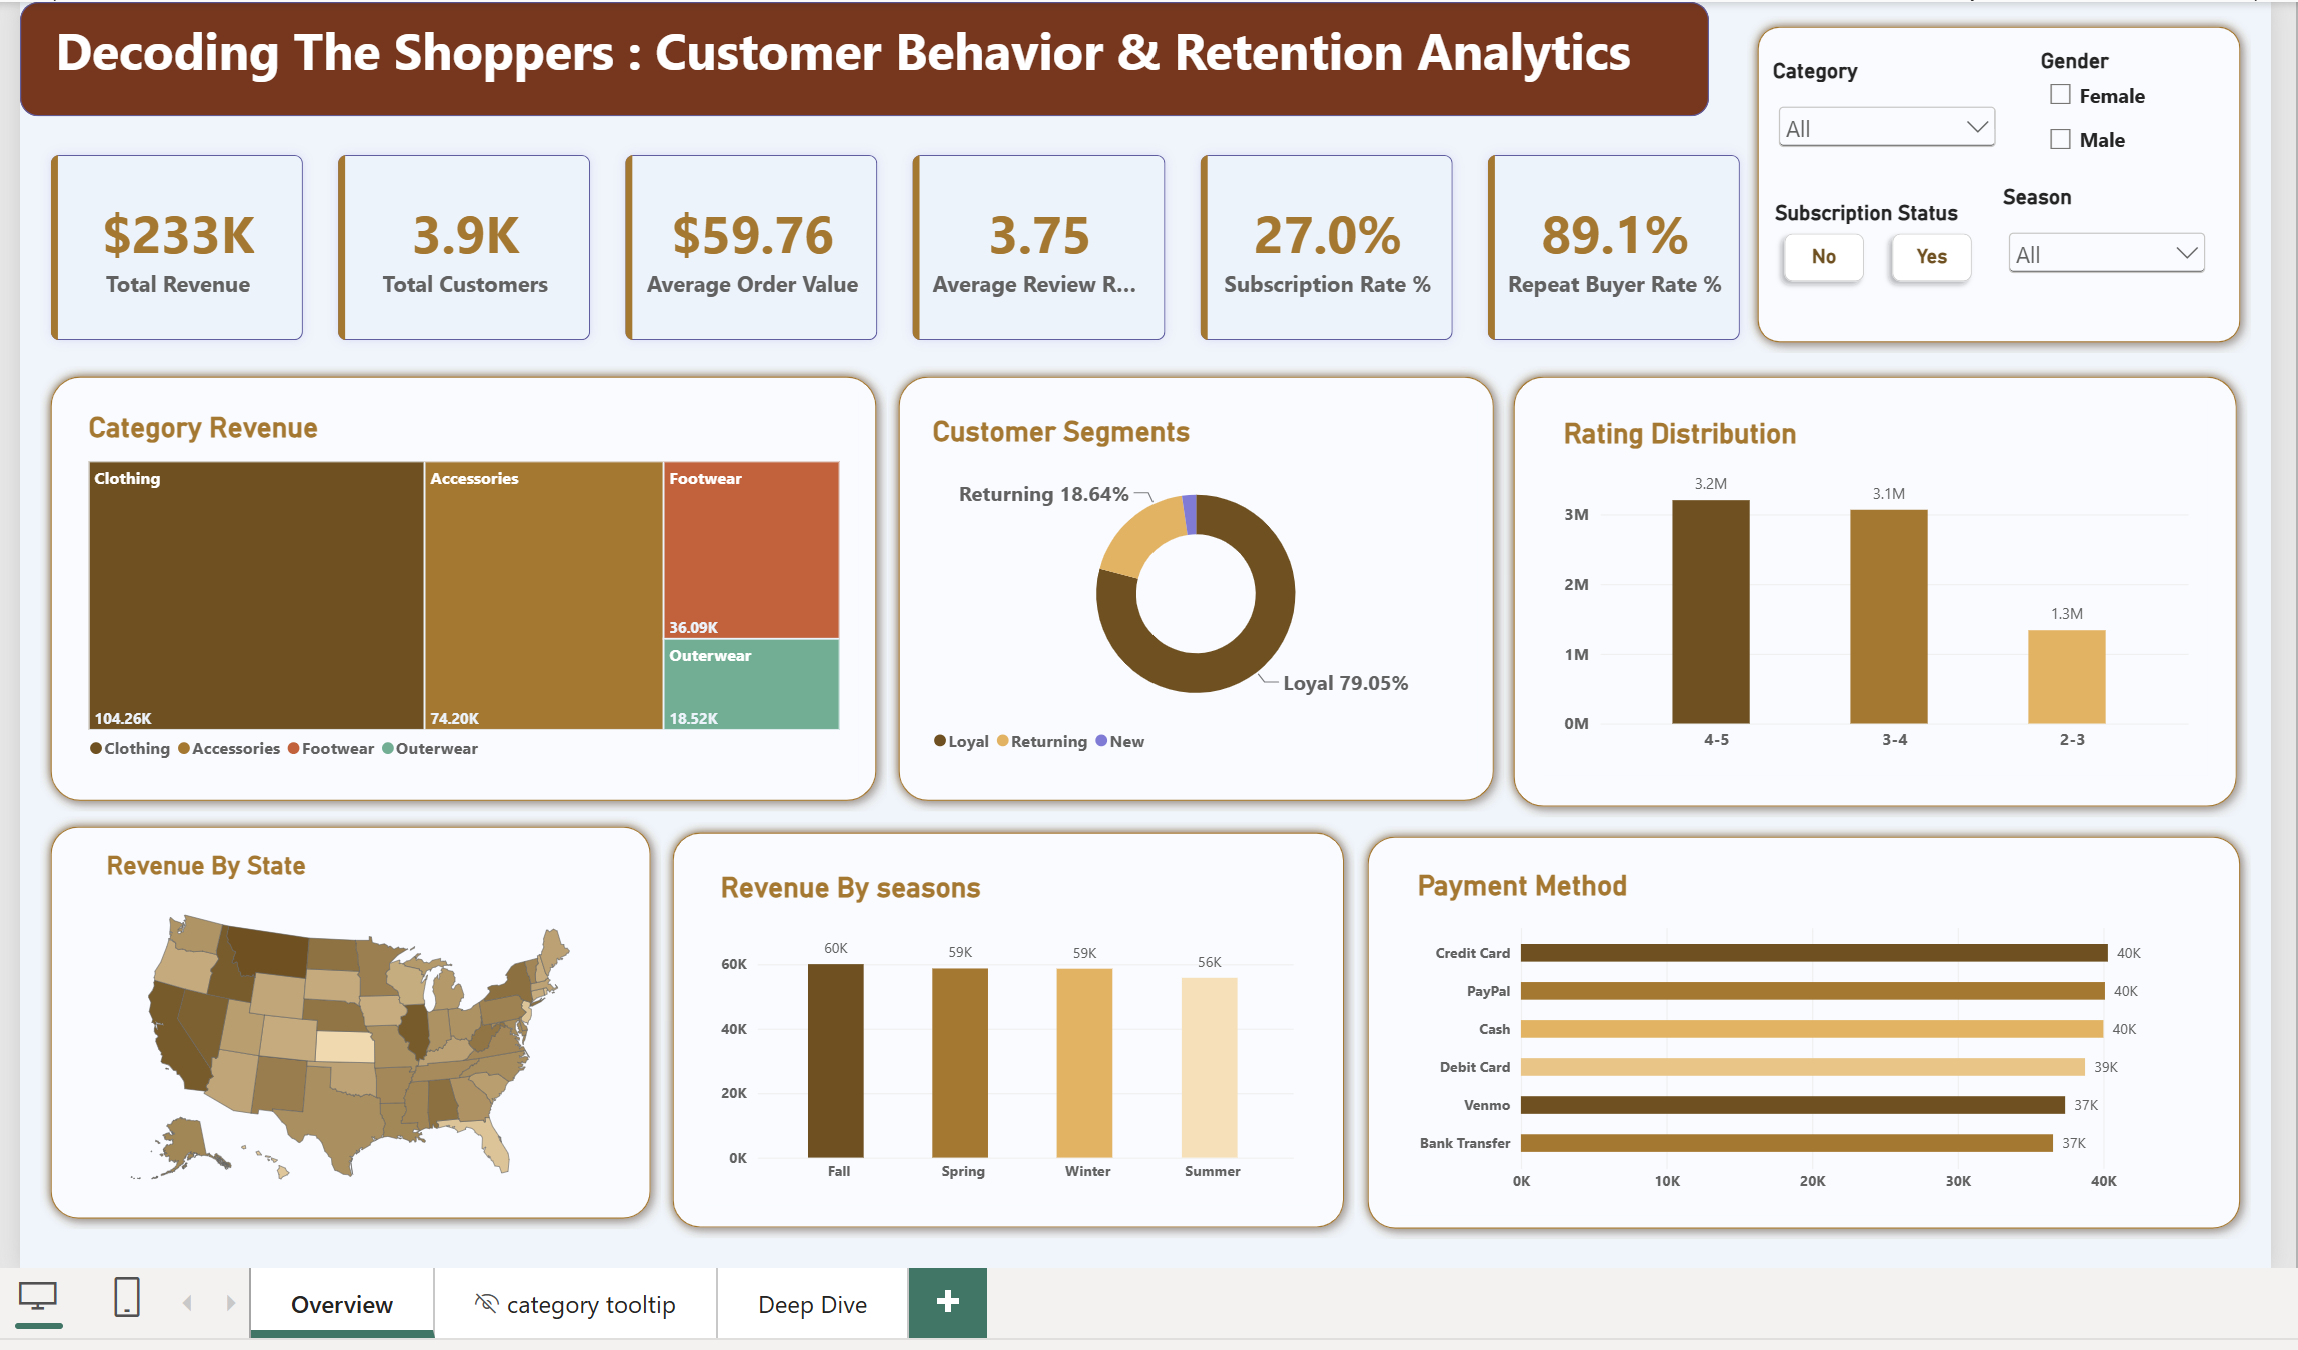

The page's visual inventory and layout, read from the dashboard file:
{"tool":"powerbi","page":{"name":"Overview","canvas":[1920,1080],"ordinal":0},"visuals":[{"type":"shape","box":[1472.5,12.5,430,287.5],"z":0},{"type":"shape","box":[1140,702.5,762.5,352.5],"z":1000},{"type":"shape","box":[547.5,700,590,355],"z":2000},{"type":"shape","box":[17.5,695,530,352.5],"z":3000},{"type":"shape","box":[17.5,310,722.5,380],"z":4000},{"type":"shape","box":[1265,310,635,385],"z":5000},{"type":"shape","box":[740,310,525,380],"z":6000},{"type":"shape","box":[0,0,1440,97.5],"z":7000},{"type":"textbox","box":[15,12.5,1372.5,107.5],"z":8000},{"type":"slicer","title":"Gender","fields":{"Values":["public customer.gender"]},"box":[1722.5,40,177.5,115],"z":9000},{"type":"slicer","title":"Season","fields":{"Values":["public customer.season"]},"box":[1690,155,177.5,92.5],"z":10000},{"type":"cardVisual","fields":{"Data":["public customer.Total Revenue","public customer.Total Customers","public customer.Average Order Value","public customer.Average Review Rating","public customer.Subscription Rate %","public customer.Repeat Buyer Rate %"]},"box":[15,120,1467.5,180],"z":11000},{"type":"treemap","title":"Category Revenue","fields":{"Group":["public customer.category"],"Values":["Sum(public customer.purchase_amount)"]},"box":[42.5,335,672.5,332.5],"z":12000},{"type":"donutChart","title":"Customer Segments","fields":{"Category":["public customer.Customer Segment"],"Y":["Sum(public customer.customer_id)"]},"box":[762.5,337.5,480,322.5],"z":13000},{"type":"clusteredColumnChart","title":"Rating Distribution","fields":{"Category":["public customer.Rating Bucket"],"Y":["Sum(public customer.customer_id)"]},"box":[1300,340,565,320],"z":14000},{"type":"shapeMap","title":"Revenue By State","fields":{"Category":["public customer.location"],"Value":["Sum(public customer.purchase_amount)"]},"box":[57.5,710,447.5,325],"z":15000},{"type":"clusteredColumnChart","title":"Revenue By seasons","fields":{"Category":["public customer.season"],"Y":["Sum(public customer.purchase_amount)"]},"box":[582.5,727.5,520,300],"z":16000},{"type":"clusteredBarChart","title":"Payment Method","fields":{"Category":["public customer.payment_method"],"Y":["Sum(public customer.purchase_amount)"]},"box":[1175,725,690,310],"z":17000},{"type":"advancedSlicerVisual","fields":{"Values":["public customer.subscription_status"]},"box":[1495.5,168.3,177.8,78.4],"z":18000},{"type":"slicer","title":"Category","fields":{"Values":["public customer.category"]},"box":[1495,47.5,195,110],"z":19000}]}

Visuals, with their boxes on the page's 1920x1080 design canvas (x1, y1, x2, y2). These are canvas units, not pixel positions in the 2298x1350 screenshot, which may show the page scaled, cropped or inside an application window:
shape: [x1=1472, y1=12, x2=1902, y2=300]
shape: [x1=1140, y1=702, x2=1902, y2=1055]
shape: [x1=548, y1=700, x2=1138, y2=1055]
shape: [x1=18, y1=695, x2=548, y2=1048]
shape: [x1=18, y1=310, x2=740, y2=690]
shape: [x1=1265, y1=310, x2=1900, y2=695]
shape: [x1=740, y1=310, x2=1265, y2=690]
shape: [x1=0, y1=0, x2=1440, y2=98]
textbox: [x1=15, y1=12, x2=1388, y2=120]
"Gender" slicer: [x1=1722, y1=40, x2=1900, y2=155]
"Season" slicer: [x1=1690, y1=155, x2=1868, y2=248]
cardVisual - public customer.Total Revenue x public customer.Total Customers: [x1=15, y1=120, x2=1482, y2=300]
"Category Revenue" treemap: [x1=42, y1=335, x2=715, y2=668]
"Customer Segments" donutChart: [x1=762, y1=338, x2=1242, y2=660]
"Rating Distribution" clusteredColumnChart: [x1=1300, y1=340, x2=1865, y2=660]
"Revenue By State" shapeMap: [x1=58, y1=710, x2=505, y2=1035]
"Revenue By seasons" clusteredColumnChart: [x1=582, y1=728, x2=1102, y2=1028]
"Payment Method" clusteredBarChart: [x1=1175, y1=725, x2=1865, y2=1035]
advancedSlicerVisual - public customer.subscription_status: [x1=1496, y1=168, x2=1673, y2=247]
"Category" slicer: [x1=1495, y1=48, x2=1690, y2=158]
